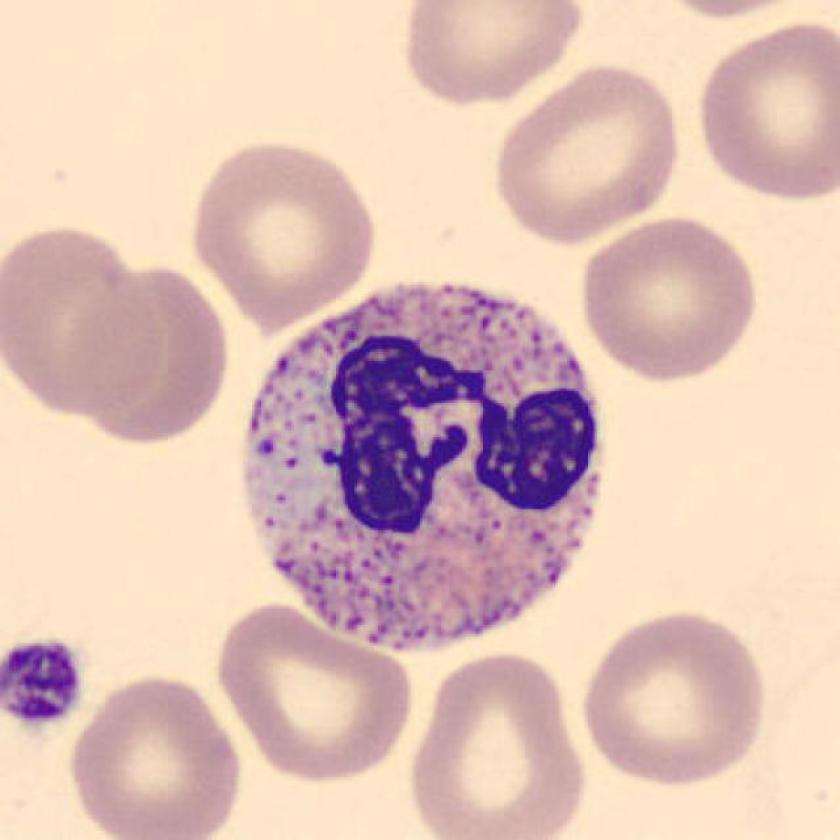neutrophil: (245, 290, 601, 649)
